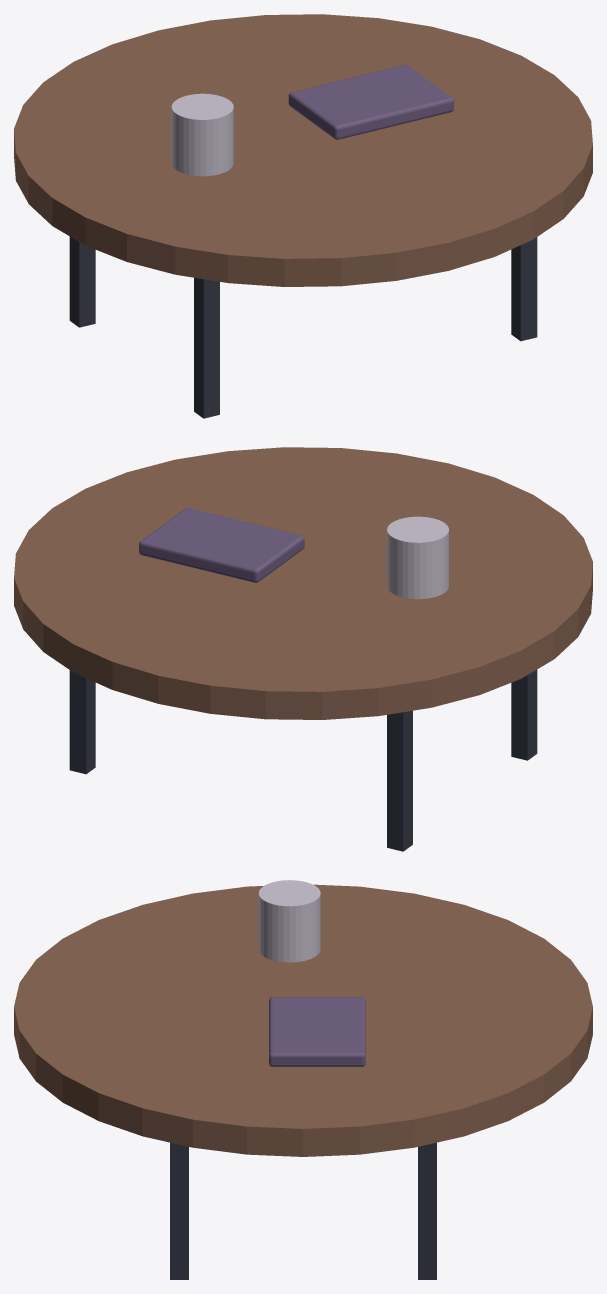
The model's file is table.glb.
3 renders of one model, top to bottom at view 1: azimuth 30°, elevation 25°; view 2: azimuth 150°, elevation 25°; view 3: azimuth 270°, elevation 25°, orthographic.
Visible parts, largest first — view 1: Round walnut top.002, Book.002, Cup.002, Table leg.008, Table leg.009, Table leg.010; view 2: Round walnut top.002, Book.002, Cup.002, Table leg.010, Table leg.011, Table leg.008; view 3: Round walnut top.002, Book.002, Cup.002, Table leg.009, Table leg.011.
Boxes of the visible parts, x1=… form: Round walnut top.002: x1=14, y1=14, x2=592, y2=286; Book.002: x1=288, y1=64, x2=453, y2=139; Cup.002: x1=171, y1=93, x2=233, y2=176; Table leg.008: x1=194, y1=277, x2=219, y2=418; Table leg.009: x1=511, y1=237, x2=537, y2=341; Table leg.010: x1=69, y1=236, x2=95, y2=327; Round walnut top.002: x1=14, y1=447, x2=592, y2=719; Book.002: x1=139, y1=508, x2=304, y2=582; Cup.002: x1=387, y1=516, x2=448, y2=599; Table leg.010: x1=387, y1=710, x2=412, y2=851; Table leg.011: x1=69, y1=670, x2=95, y2=774; Table leg.008: x1=511, y1=669, x2=537, y2=760; Round walnut top.002: x1=14, y1=884, x2=592, y2=1156; Book.002: x1=269, y1=997, x2=365, y2=1066; Cup.002: x1=258, y1=880, x2=320, y2=962; Table leg.009: x1=170, y1=1142, x2=188, y2=1279; Table leg.011: x1=418, y1=1142, x2=436, y2=1279.
Bounding box in the file's own units: 1.68 × 0.81 × 1.68.
